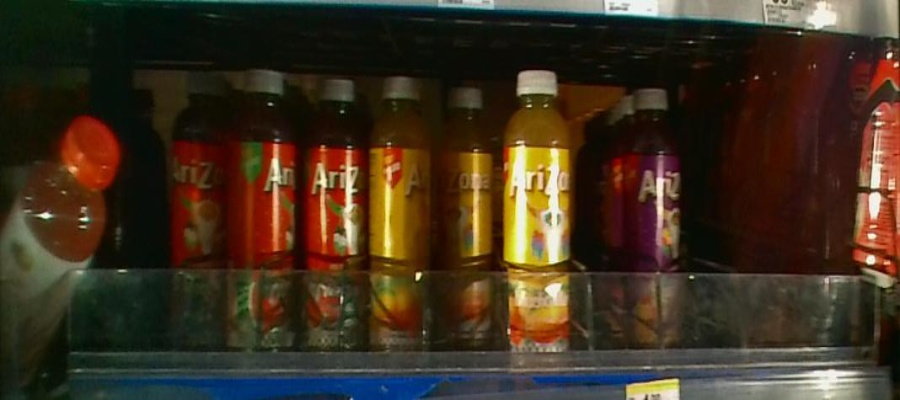bottle: (501, 66, 576, 364), (225, 59, 298, 359), (302, 69, 368, 353), (368, 70, 431, 352), (163, 65, 222, 346), (436, 79, 493, 358), (628, 80, 683, 359)
